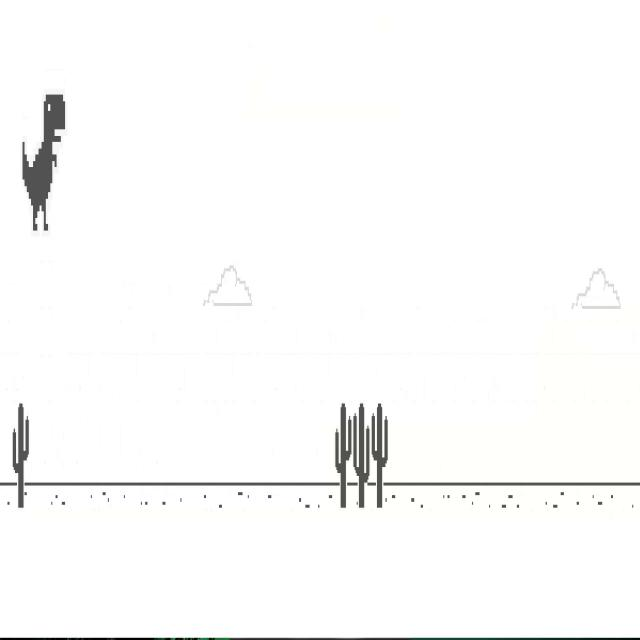cacto: (12, 402, 30, 509), (335, 403, 352, 509), (353, 403, 370, 509), (372, 403, 388, 509)
dino: (23, 93, 66, 232)
